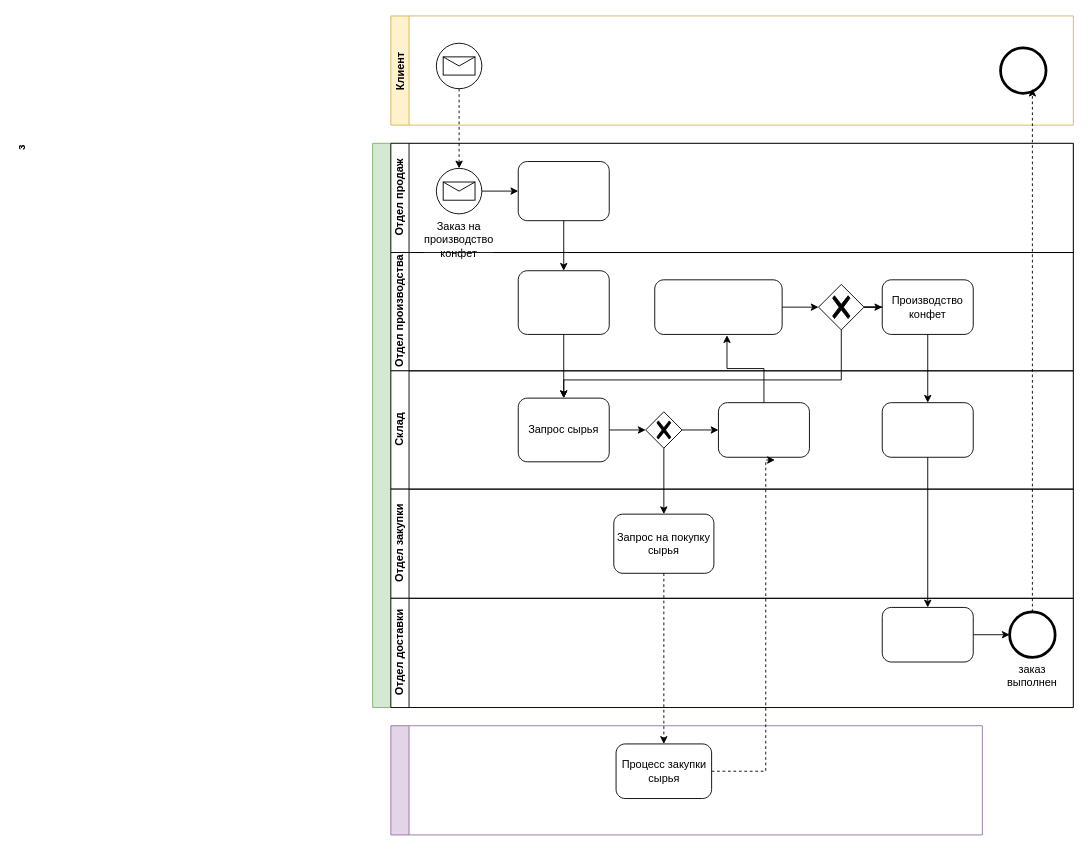
This 1089x851 diagram has some shape labels left out. The shapes that lost their labels are listed below. From the top down, each one's box as (x1, y1, x2, y2) in pixels, then its label:
(517, 161, 609, 221): Формирование заказа
(517, 270, 609, 334): Подготовка перед производством
(654, 279, 782, 334): Проверка сырья технологом
(718, 402, 809, 457): Сырье на складе
(881, 402, 973, 457): Поступление конфет на склад
(881, 607, 973, 662): Выполнение доставки
(390, 725, 982, 835): Поставщик
